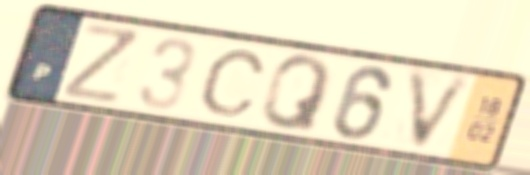3: (137, 36, 197, 112)
6: (329, 62, 395, 142)
C: (196, 47, 271, 119)
Q: (257, 53, 336, 136)
V: (405, 64, 480, 158)
Z: (59, 20, 143, 108)
